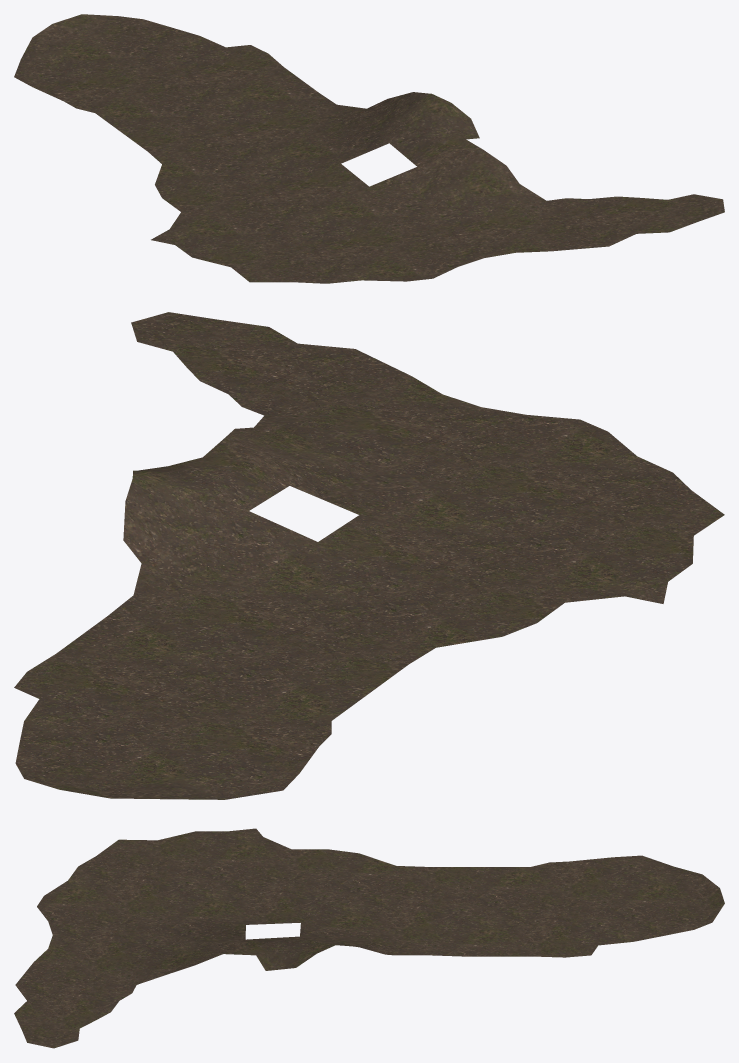
Rendered from terrain_base11.fbx.
3 views of the same model, one above another, from view 1: azimuth 30°, elevation 25°; view 2: azimuth 150°, elevation 25°; view 3: azimuth 270°, elevation 25° (orthographic). The views are drawn at different scales.
Visible parts, largest first — view 1: Material_#238683241/New_terrain; view 2: Material_#238683241/New_terrain; view 3: Material_#238683241/New_terrain.
Boxes of the visible parts, box(x1,y1,x2,y2) form: Material_#238683241/New_terrain: box(14, 14, 724, 283); Material_#238683241/New_terrain: box(14, 312, 724, 799); Material_#238683241/New_terrain: box(14, 828, 724, 1048).
Size of the model in its own units: 38.3 by 2.92 by 51.75.
